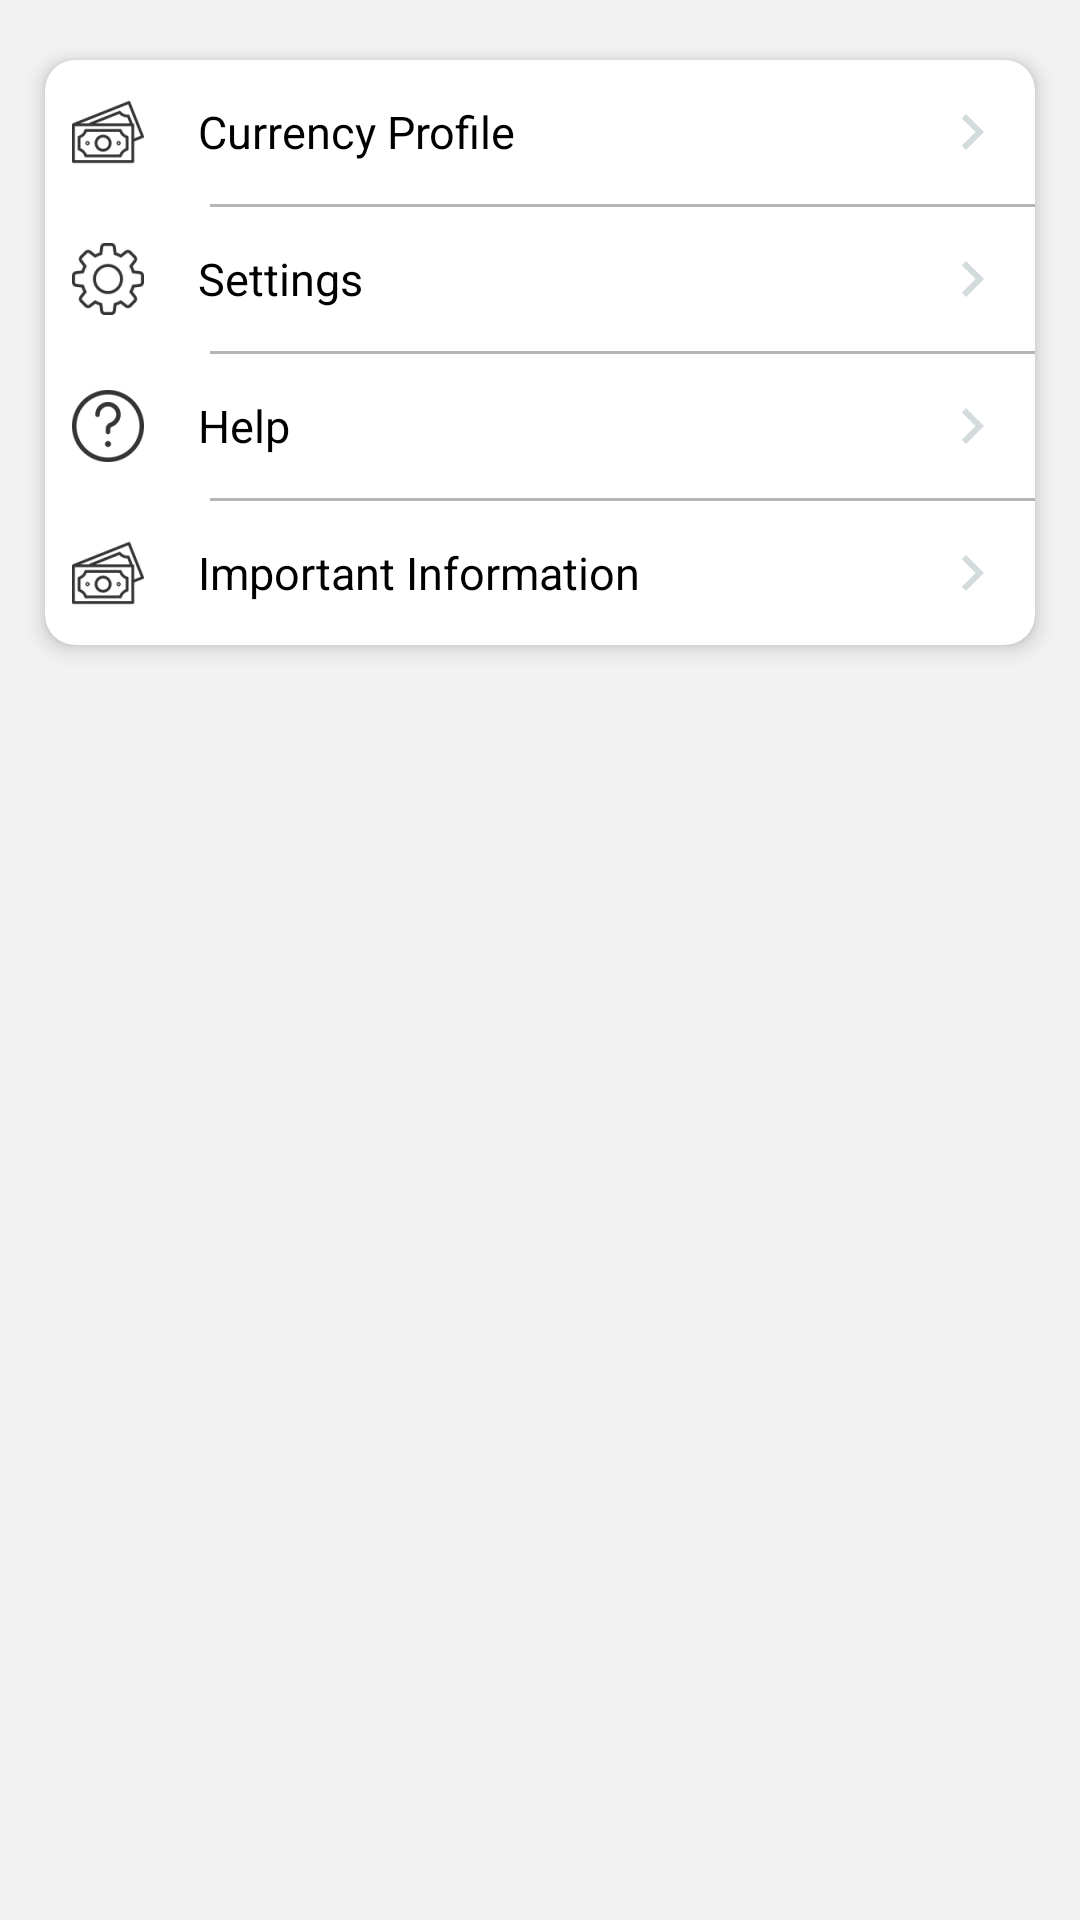

Icon click points for this 1080w x 1920h phone screenshot, format (x=x, y=y):
money: (x=108, y=132), (x=108, y=573)
right: (x=972, y=132), (x=972, y=279), (x=972, y=426), (x=972, y=573)
